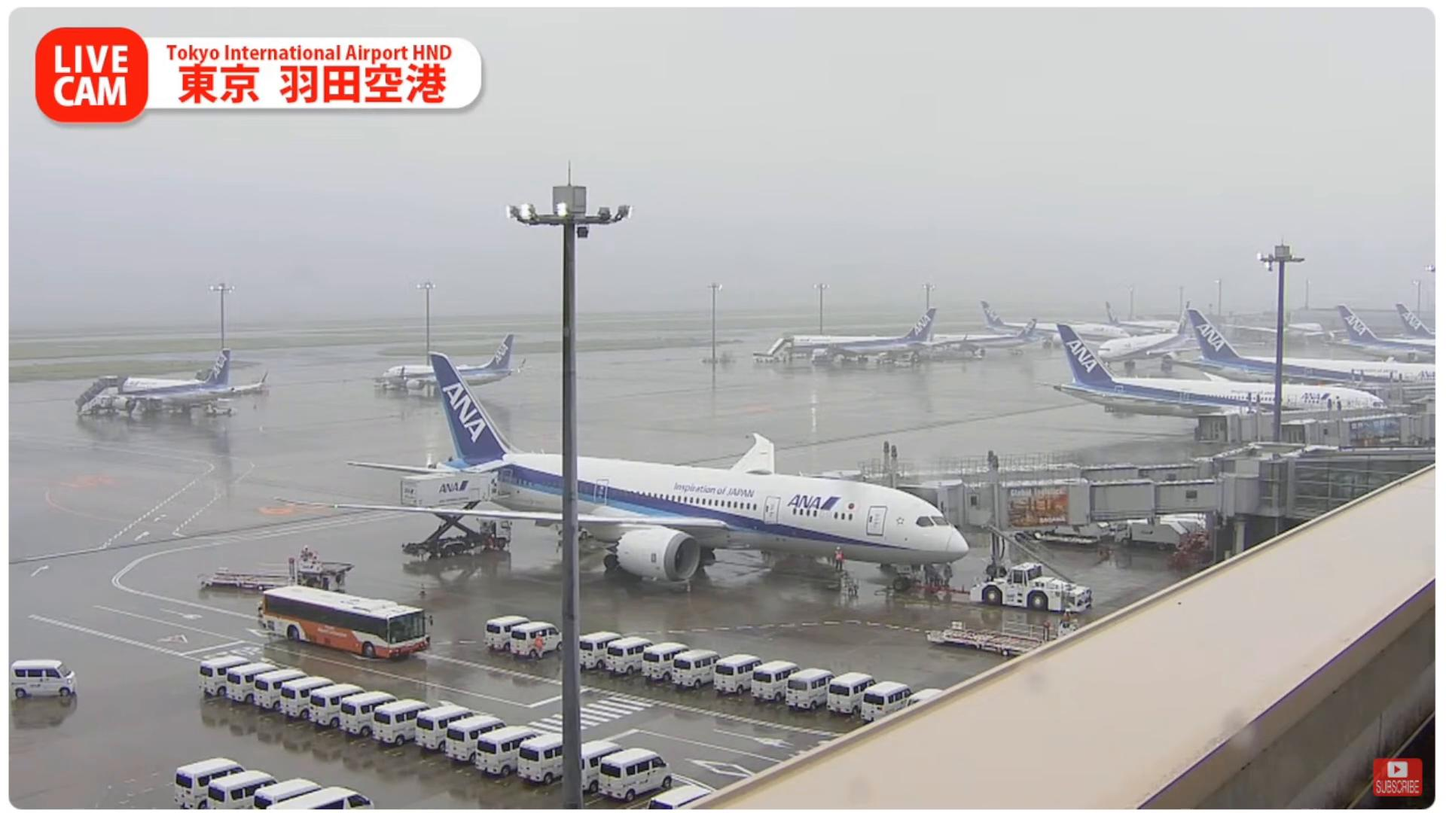APS: (968, 562, 1094, 614)
Aerobridge: (796, 455, 1210, 515), (990, 474, 1182, 535)
Airplane: (270, 351, 970, 592)
Catering: (400, 469, 510, 559)
JCPL: (198, 546, 353, 591), (925, 617, 1080, 655)
Window: (1292, 458, 1433, 516)
